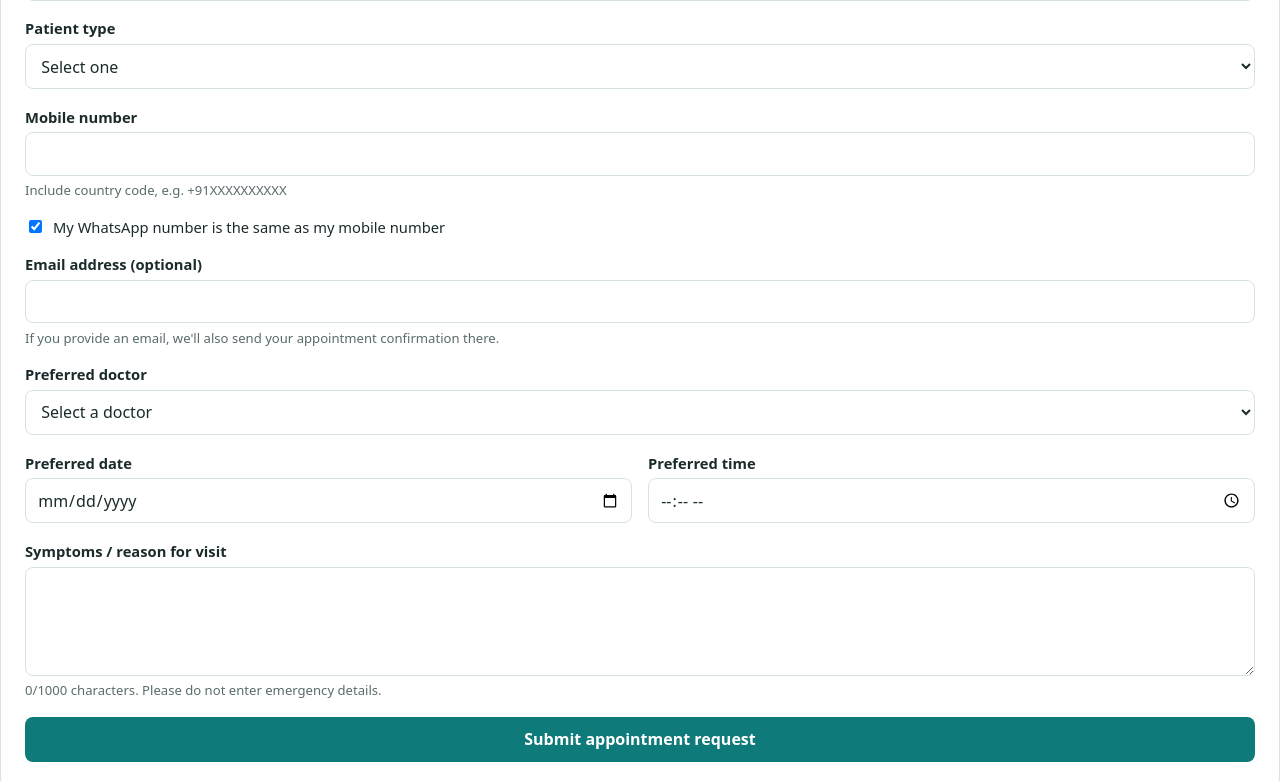
Scenario: BookingForm › shows validation errors when required fields are missing
(page scrolled)
Step 1. Click the button "Submit appointment request" → (640, 739), box [25, 717, 1255, 762]
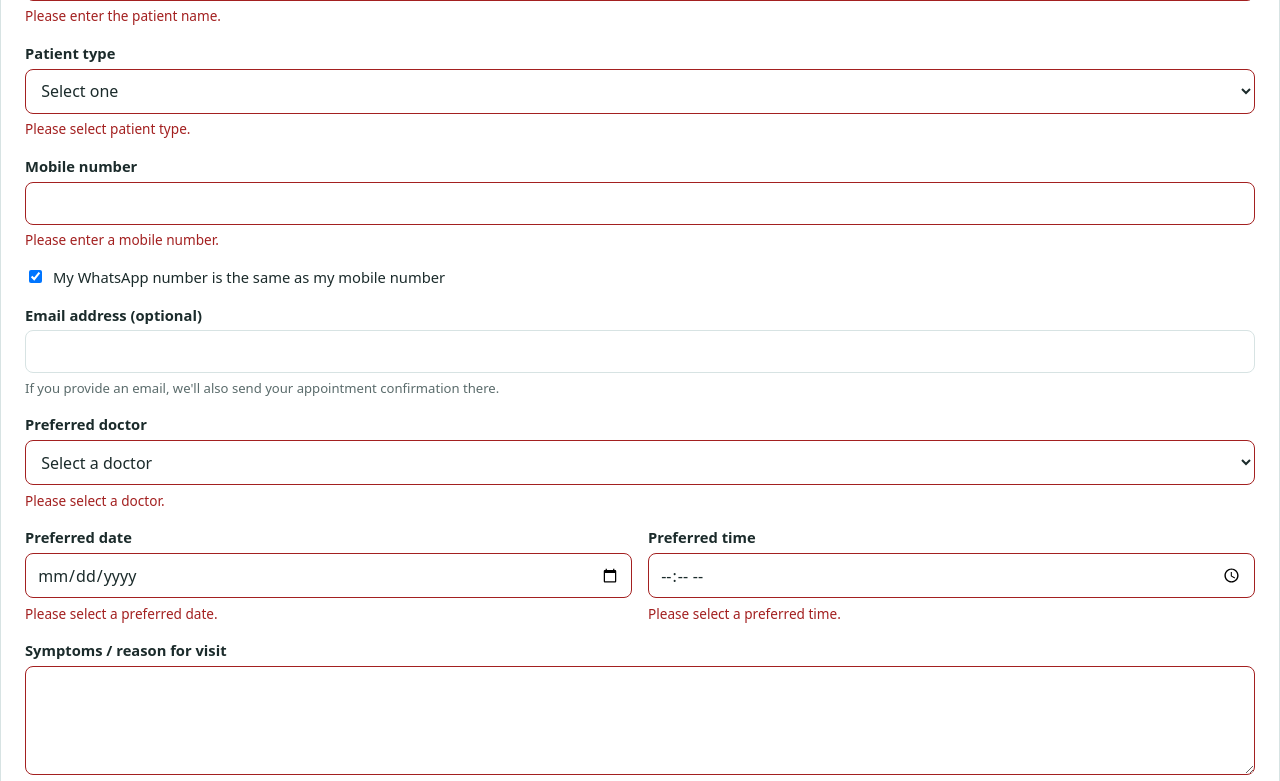
Expected: the text "Please enter the patient name." is shown, [25, 6, 221, 25]
Expected: the text "Please select patient type." is shown, [25, 119, 190, 138]
